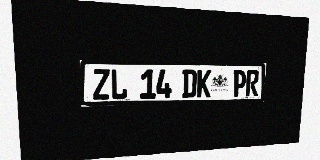1: (140, 69, 156, 99)
4: (156, 69, 172, 98)
D: (182, 70, 197, 98)
K: (197, 70, 211, 98)
L: (110, 69, 127, 99)
P: (232, 70, 246, 97)
R: (245, 70, 259, 96)
Z: (92, 69, 110, 100)
